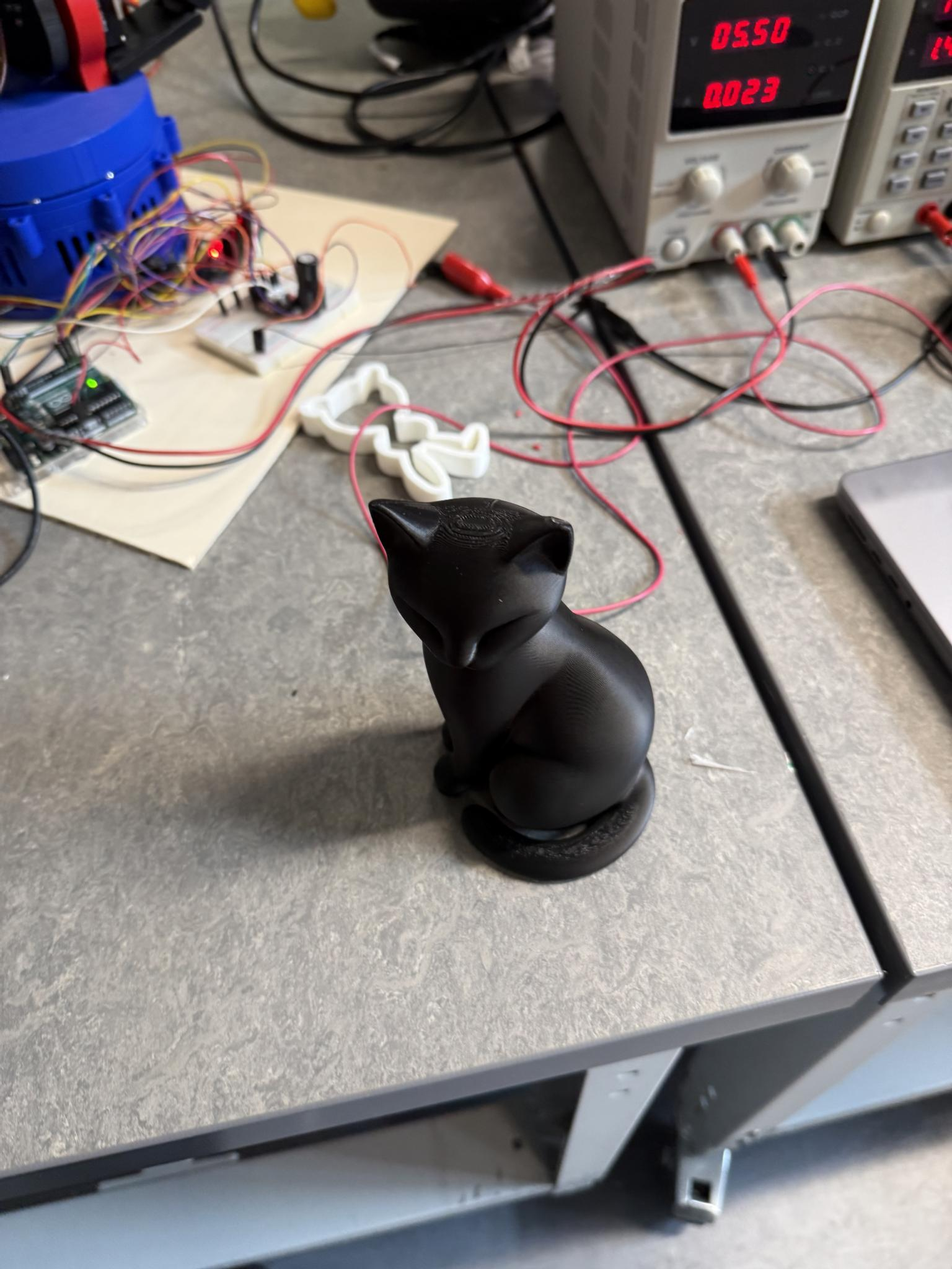cat: (370, 498, 653, 881)
